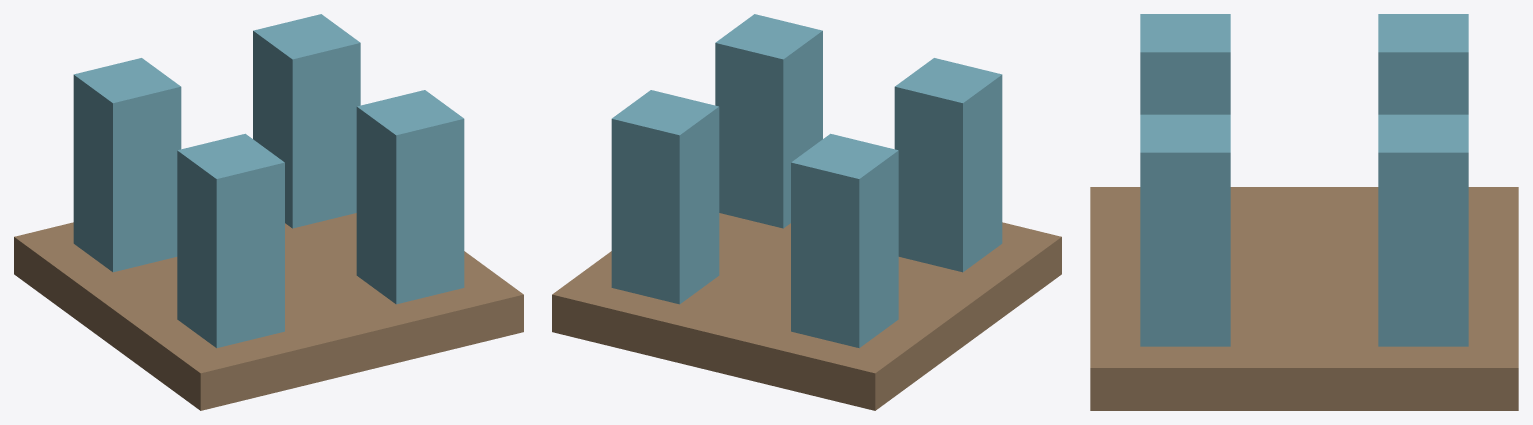
The model's file is Prop_DS_Crop_Kelpweed_S3_V2.glb.
3 views of the same model, side by side, from view 1: azimuth 30°, elevation 25°; view 2: azimuth 150°, elevation 25°; view 3: azimuth 270°, elevation 25° (orthographic). The views are drawn at different scales.
Visible parts, largest first — view 1: Prop_DS_Crop_Kelpweed_S3_V2; view 2: Prop_DS_Crop_Kelpweed_S3_V2; view 3: Prop_DS_Crop_Kelpweed_S3_V2.
Boxes of the visible parts, x1,y1,x2,y2 form: Prop_DS_Crop_Kelpweed_S3_V2: (14,14,523,410); Prop_DS_Crop_Kelpweed_S3_V2: (552,14,1061,410); Prop_DS_Crop_Kelpweed_S3_V2: (1090,14,1518,410).
Size of the model in its own units: 0.9 by 0.55 by 0.9.
